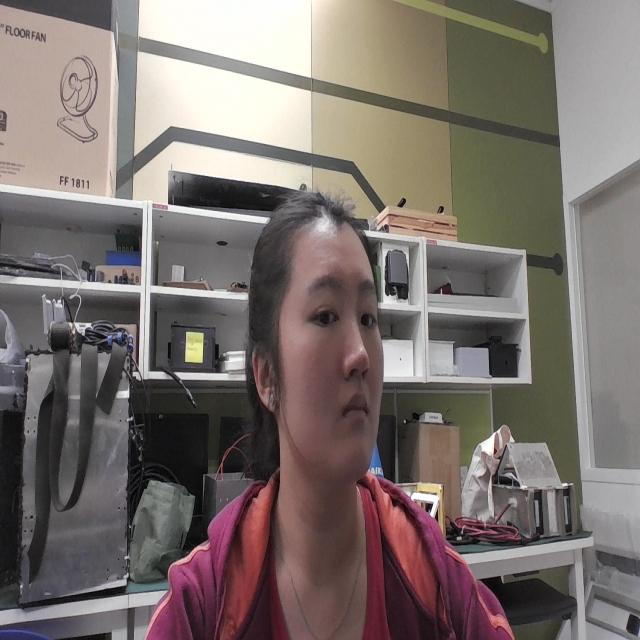Without Helmet: (230, 175, 415, 515)
